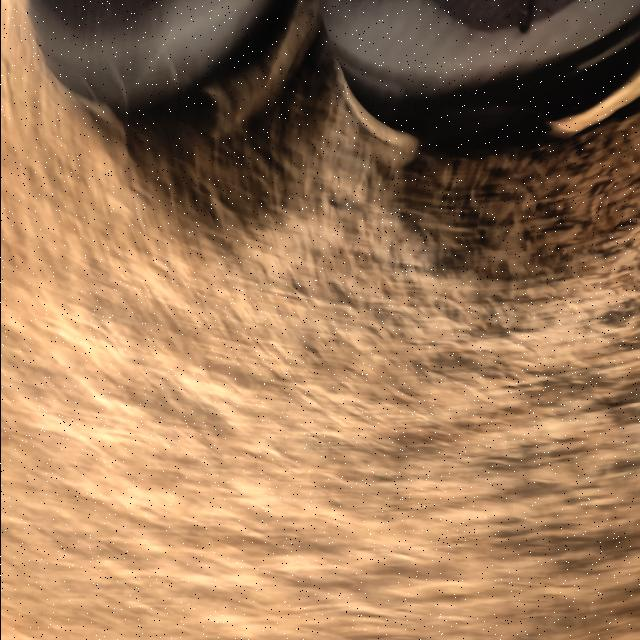black shoes: (374, 1, 600, 82)
